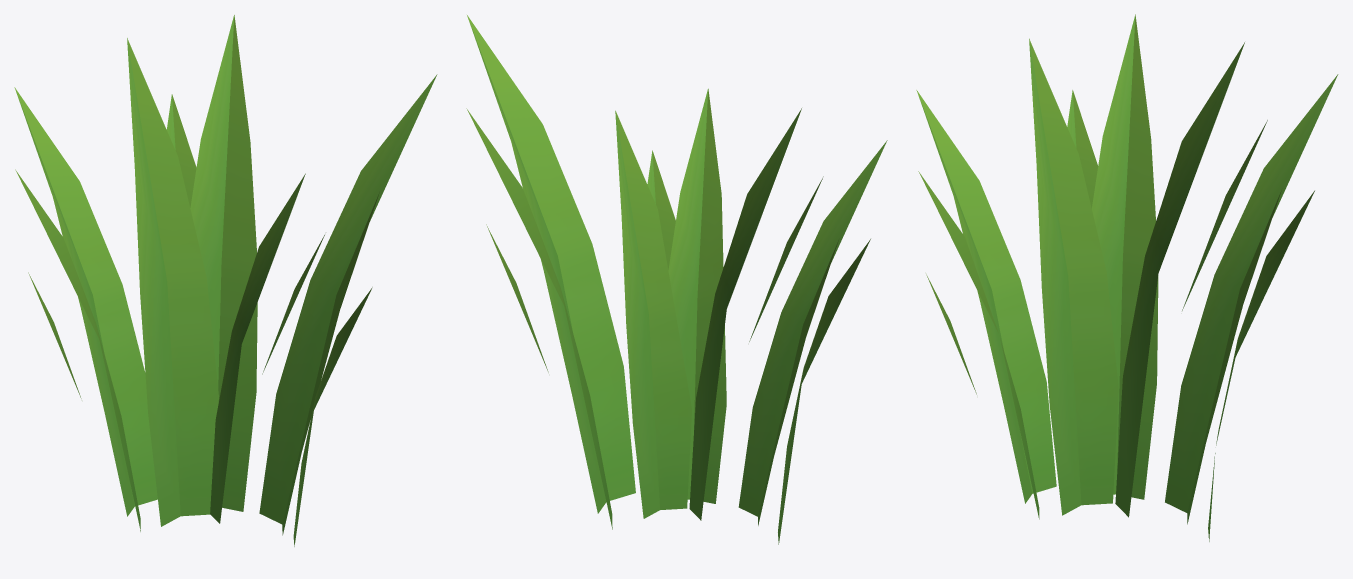
File: grass_2_c_singlesided_color1.glb
3 views of the same model, side by side, from view 1: azimuth 30°, elevation 25°; view 2: azimuth 150°, elevation 25°; view 3: azimuth 270°, elevation 25° (orthographic). The views are drawn at different scales.
Parts seen in each view (by area): view 1: Grass_2_C_Singlesided_Color1; view 2: Grass_2_C_Singlesided_Color1; view 3: Grass_2_C_Singlesided_Color1.
Boxes of the visible parts, left/top/right/bottom form: Grass_2_C_Singlesided_Color1: left=14, top=15, right=437, bottom=546; Grass_2_C_Singlesided_Color1: left=466, top=15, right=887, bottom=544; Grass_2_C_Singlesided_Color1: left=916, top=14, right=1338, bottom=541.
Bounding box in the file's own units: 0.8719 × 0.9336 × 0.7383.
1 material, 1 textured.
